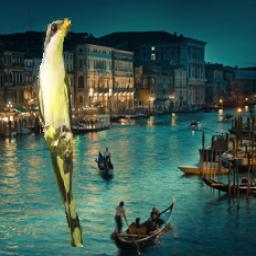Cuckoo: (39, 17, 84, 247)
